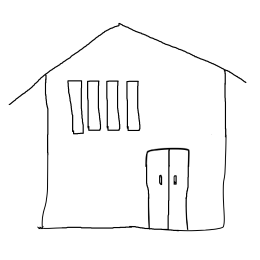door: (141, 145, 195, 234)
open_window: (123, 75, 147, 133), (67, 74, 85, 139), (84, 78, 103, 136), (103, 77, 122, 134)
single_line_roof: (5, 17, 251, 112)
wall: (35, 86, 232, 235)
